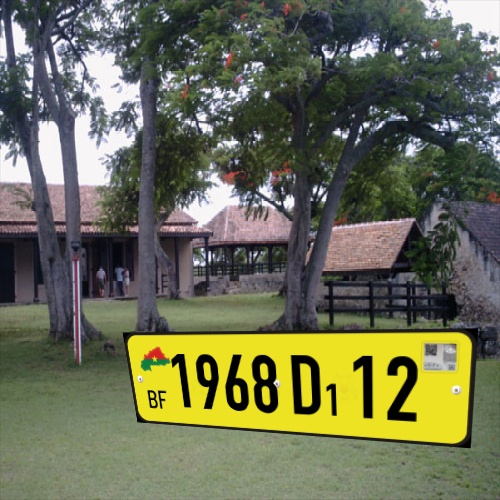plate: (112, 317, 492, 464)
